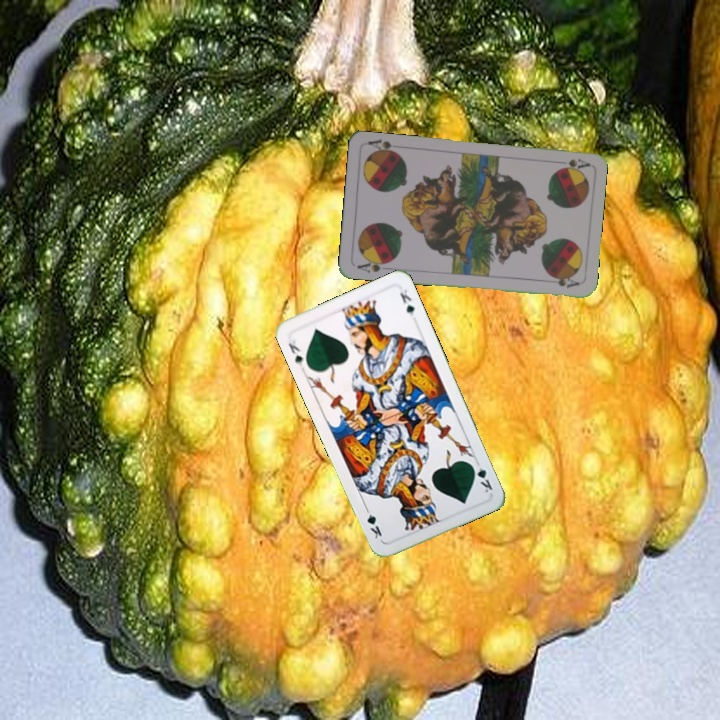GK: (467, 457, 495, 495), (284, 334, 306, 369)
SA: (353, 256, 393, 275), (555, 155, 591, 172)
